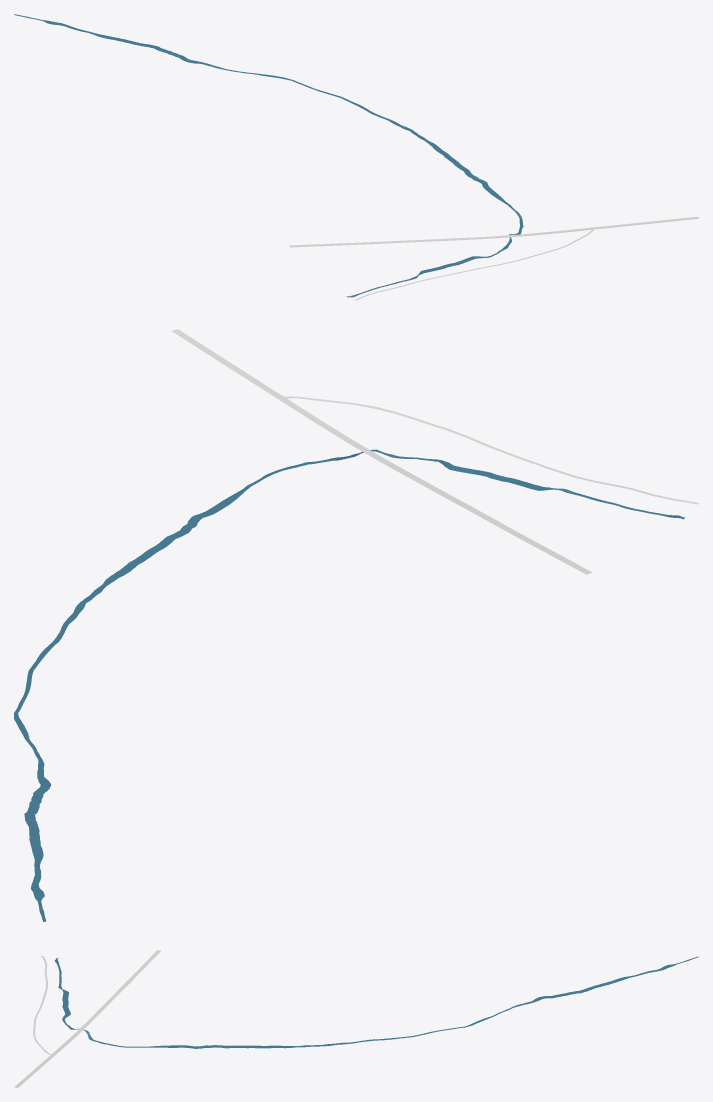
The model's file is objekty.glb.
3 renders of one model, top to bottom at view 1: azimuth 30°, elevation 25°; view 2: azimuth 150°, elevation 25°; view 3: azimuth 270°, elevation 25°, orthographic. The views are drawn at different scales.
Parts seen in each view (by area): view 1: Voda_04_10, Cesty_04_10; view 2: Voda_04_10, Cesty_04_10; view 3: Voda_04_10, Cesty_04_10.
Part boxes in pixels (left/top/right/bottom): Voda_04_10: left=14, top=14, right=523, bottom=297; Cesty_04_10: left=289, top=216, right=698, bottom=300; Voda_04_10: left=14, top=449, right=684, bottom=921; Cesty_04_10: left=172, top=329, right=698, bottom=574; Voda_04_10: left=54, top=956, right=698, bottom=1048; Cesty_04_10: left=14, top=950, right=160, bottom=1087.
Size of the model in its own units: 502 by 24.16 by 1006.
